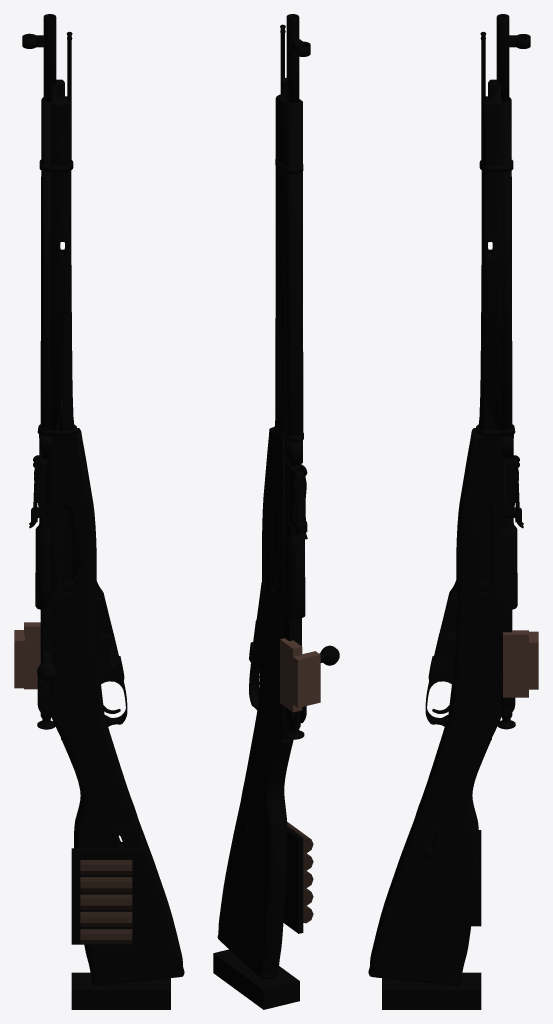
The model's file is MosinNagant__Mount_Mosin_PU__RecoilPad_Rubber__ShellHolder_Butt.fbx.
3 views of the same model, side by side, from view 1: azimuth 90°, elevation 25°; view 2: azimuth 210°, elevation 25°; view 3: azimuth 270°, elevation 25° (orthographic).
Parts seen in each view (by area): view 1: asset_MosinNagant.001; view 2: asset_MosinNagant.001; view 3: asset_MosinNagant.001.
Boxes of the visible parts, box(x1,y1,x2,y2) form: asset_MosinNagant.001: box(14, 14, 184, 1009); asset_MosinNagant.001: box(213, 14, 339, 1009); asset_MosinNagant.001: box(368, 14, 538, 1009).
Size of the model in its own units: 0.049 by 0.753 by 0.1179.
